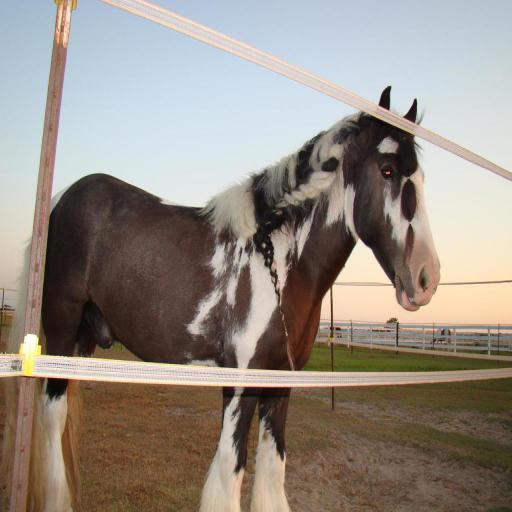horse: (4, 83, 440, 512)
